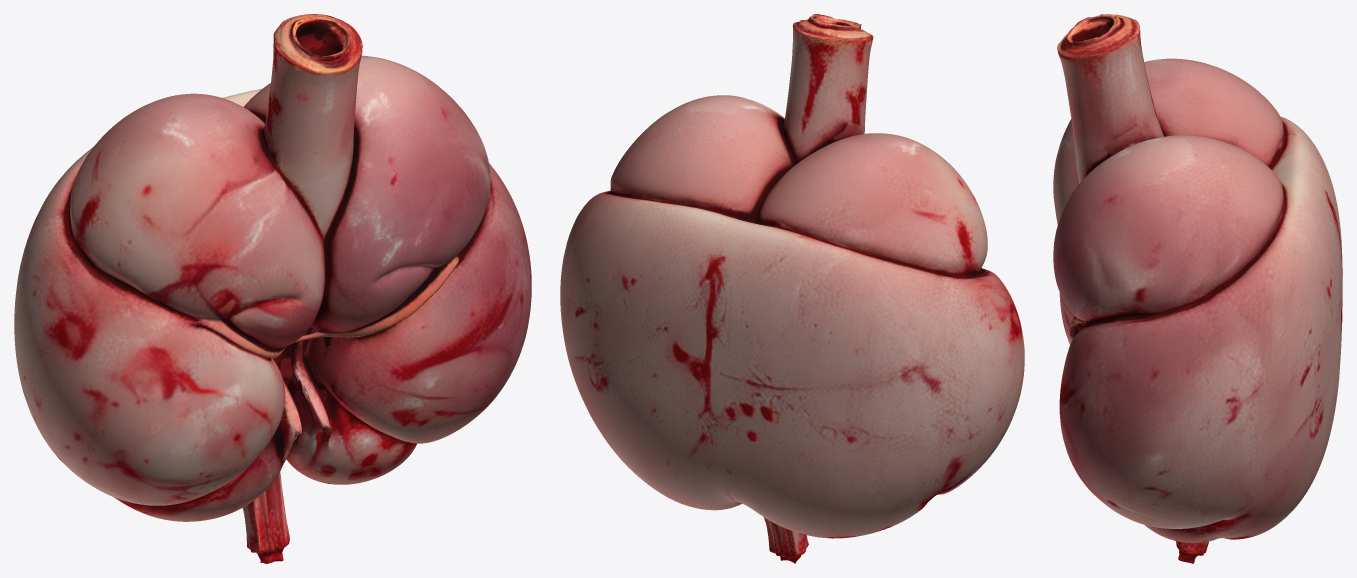
Rendered from pancreatitis.glb.
3 views of the same model, side by side, from view 1: azimuth 30°, elevation 25°; view 2: azimuth 150°, elevation 25°; view 3: azimuth 270°, elevation 25° (orthographic). The views are drawn at different scales.
Visible parts, largest first — view 1: model; view 2: model; view 3: model.
Boxes of the visible parts, x1,y1,x2,y2 form: model: [14, 14, 531, 563]; model: [560, 14, 1024, 563]; model: [1053, 14, 1342, 563].
Bounding box in the file's own units: 1.65 × 1.9 × 0.9208.
1 material, 1 textured.
